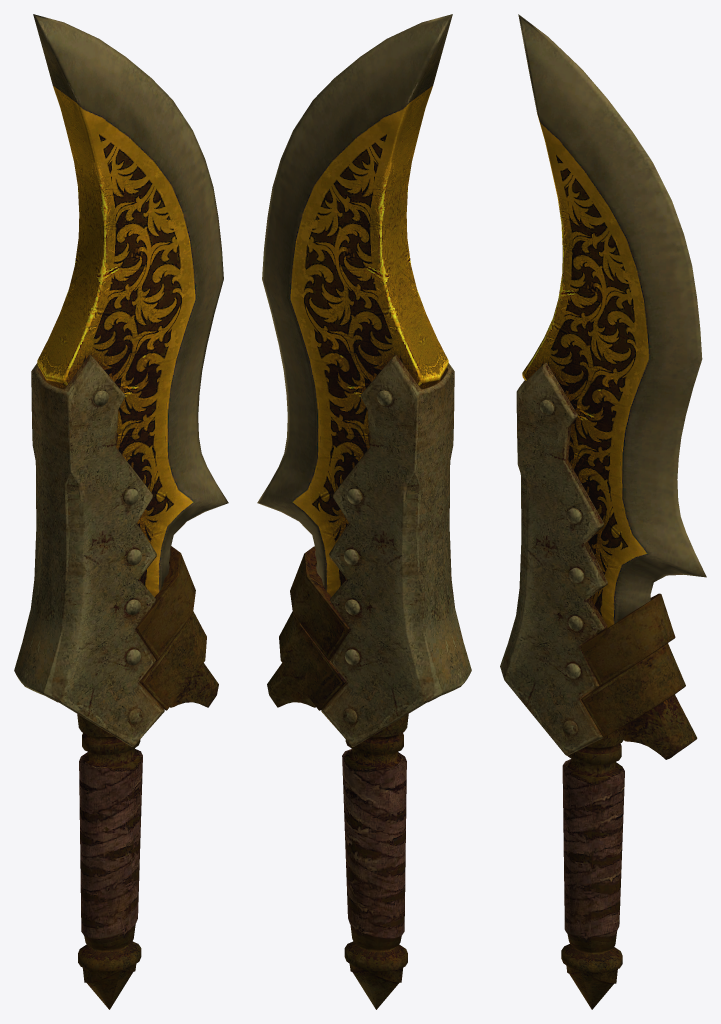
Rendered from bs_one007.obj.
3 views of the same model, side by side, from view 1: azimuth 30°, elevation 25°; view 2: azimuth 150°, elevation 25°; view 3: azimuth 330°, elevation 25° (orthographic). The views are drawn at different scales.
Visible parts, largest first — view 1: bs_one007_000_LOD_1; view 2: bs_one007_000_LOD_1; view 3: bs_one007_000_LOD_1.
Part boxes in pixels (left/top/right/bottom): bs_one007_000_LOD_1: left=14, top=14, right=228, bottom=1009; bs_one007_000_LOD_1: left=257, top=14, right=471, bottom=1009; bs_one007_000_LOD_1: left=500, top=14, right=706, bottom=1009.
Bounding box in the file's own units: 23.52 × 111 × 10.45.
